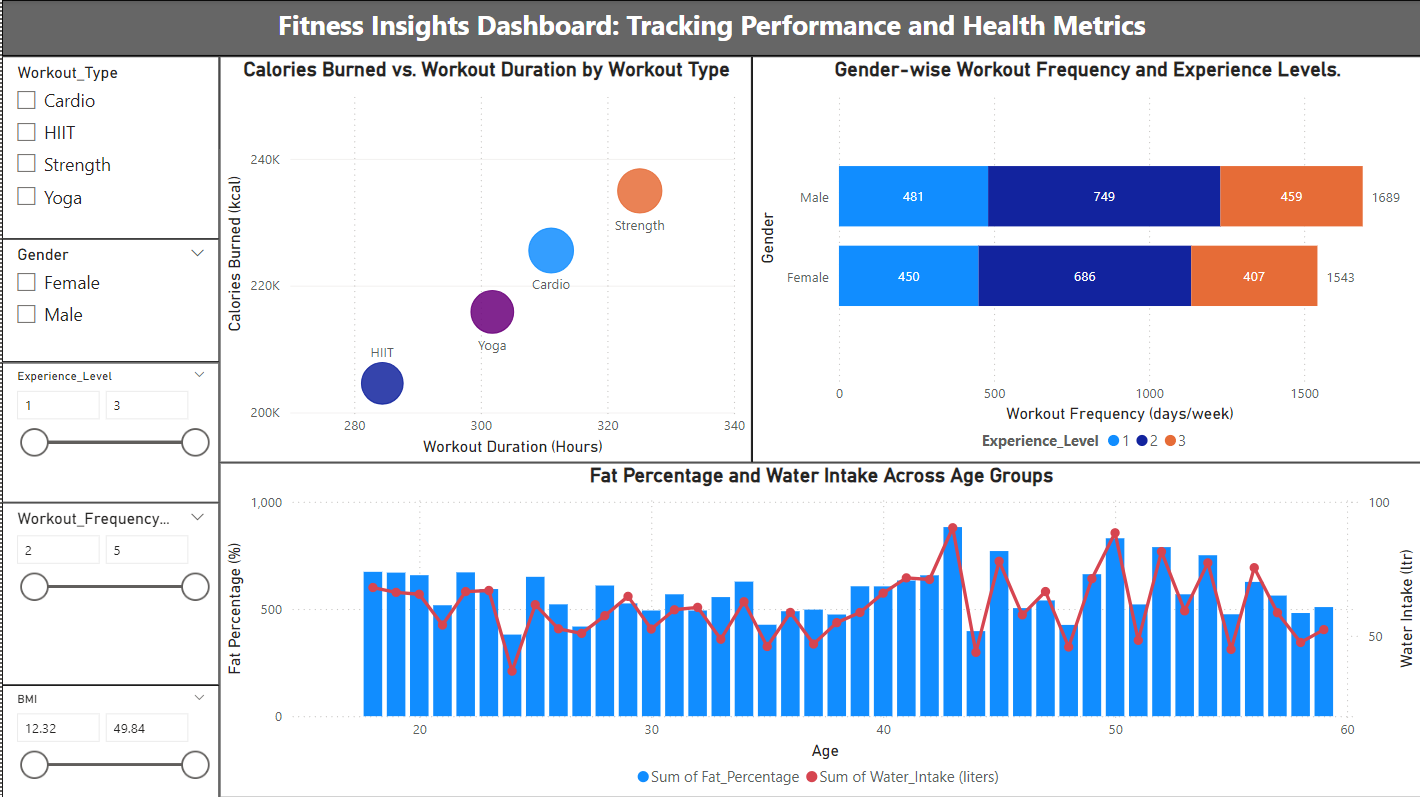

What the dashboard file says about the page in this screenshot:
{"tool":"powerbi","page":{"name":"Page 1","canvas":[1280,720],"ordinal":0},"visuals":[{"type":"scatterChart","title":"Calories Burned vs. Workout Duration by Workout Type","fields":{"X":["Sum(gym_members_exercise_tracking.Session_Duration (hours))"],"Y":["Sum(gym_members_exercise_tracking.Calories_Burned)"],"Series":["gym_members_exercise_tracking.Workout_Type"],"Size":["Sum(gym_members_exercise_tracking.BMI)"]},"box":[196.2,50.8,480.3,366.4],"z":0},{"type":"lineClusteredColumnComboChart","title":"Fat Percentage and Water Intake Across Age Groups","fields":{"Category":["gym_members_exercise_tracking.Age"],"Y":["Sum(gym_members_exercise_tracking.Fat_Percentage)"],"Y2":["Sum(gym_members_exercise_tracking.Water_Intake (liters))"]},"box":[196.2,417.2,1084.1,303.3],"z":1000},{"type":"barChart","title":"Gender-wise Workout Frequency and Experience Levels.","fields":{"Category":["gym_members_exercise_tracking.Gender"],"Y":["Sum(gym_members_exercise_tracking.Workout_Frequency (days/week))"],"Series":["gym_members_exercise_tracking.Experience_Level"]},"box":[676.5,50.8,603.8,366.4],"z":2000},{"type":"slicer","fields":{"Values":["gym_members_exercise_tracking.Workout_Type"]},"box":[0,50.8,196.2,164.7],"z":3000},{"type":"slicer","fields":{"Values":["gym_members_exercise_tracking.Gender"]},"box":[0,215.4,196.2,111.1],"z":4000},{"type":"slicer","fields":{"Values":["gym_members_exercise_tracking.Experience_Level"]},"box":[0,326.6,196.2,126.2],"z":5000},{"type":"textbox","box":[0,0,1280.3,50.8],"z":5001},{"type":"slicer","fields":{"Values":["gym_members_exercise_tracking.Workout_Frequency (days/week)"]},"box":[0,452.8,196.2,164.7],"z":5002},{"type":"slicer","fields":{"Values":["gym_members_exercise_tracking.BMI"]},"box":[0,617.5,196.2,102.9],"z":5003}]}

Visuals, with their boxes in screenshot pixels (x1, y1, x2, y2), scaled from the page's 1280x720 canvas onto the 1420x797 screenshot:
"Calories Burned vs. Workout Duration by Workout Type" scatterChart: select_region(218, 56, 750, 462)
"Fat Percentage and Water Intake Across Age Groups" lineClusteredColumnComboChart: select_region(218, 462, 1419, 796)
"Gender-wise Workout Frequency and Experience Levels." barChart: select_region(750, 56, 1419, 462)
slicer - gym_members_exercise_tracking.Workout_Type: select_region(0, 56, 218, 239)
slicer - gym_members_exercise_tracking.Gender: select_region(0, 238, 218, 361)
slicer - gym_members_exercise_tracking.Experience_Level: select_region(0, 362, 218, 501)
textbox: select_region(0, 0, 1419, 56)
slicer - gym_members_exercise_tracking.Workout_Frequency (days/week): select_region(0, 501, 218, 684)
slicer - gym_members_exercise_tracking.BMI: select_region(0, 684, 218, 796)
